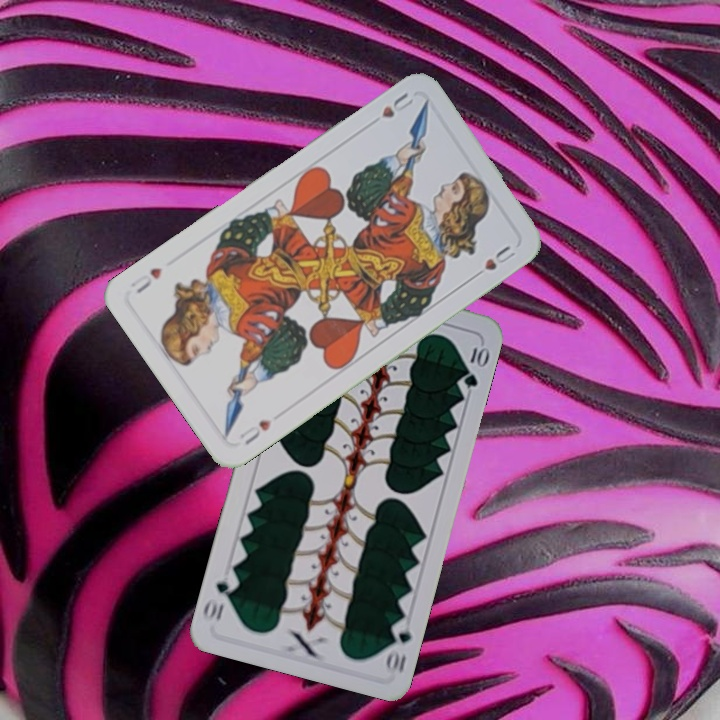G10: (382, 615, 414, 676)
HU: (235, 415, 274, 448), (377, 88, 416, 121)
